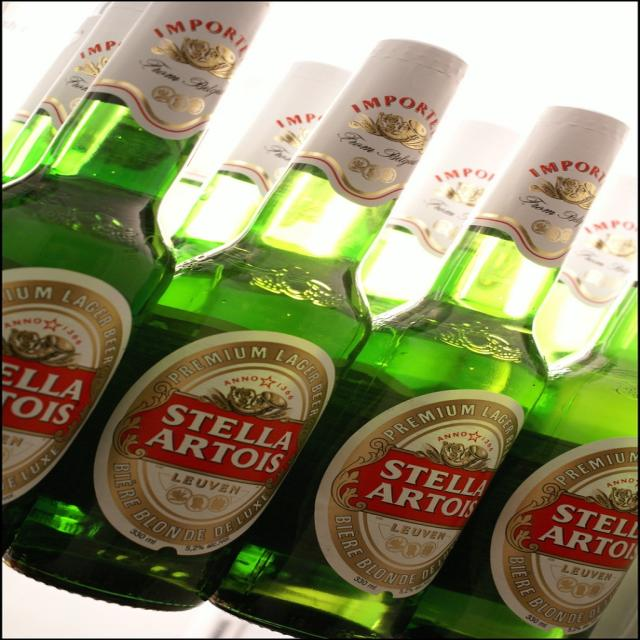stellaartois: (106, 342, 330, 548), (326, 400, 520, 590), (2, 281, 127, 498), (504, 448, 640, 627)
